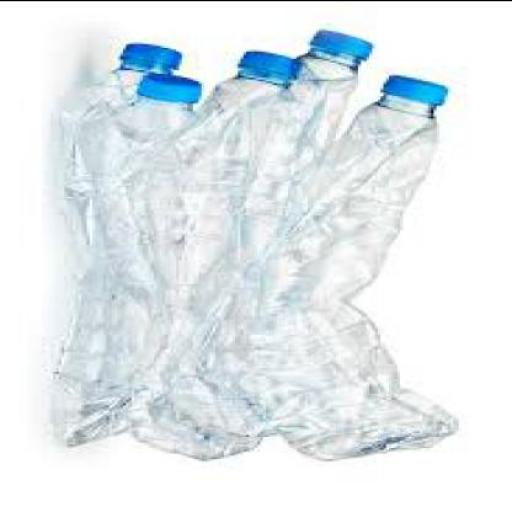plastic: (272, 76, 462, 462), (132, 52, 299, 462), (50, 44, 188, 450), (272, 30, 378, 225), (129, 74, 205, 252), (383, 74, 450, 108), (311, 30, 377, 62), (137, 74, 204, 104), (238, 52, 305, 80), (123, 44, 185, 69)
